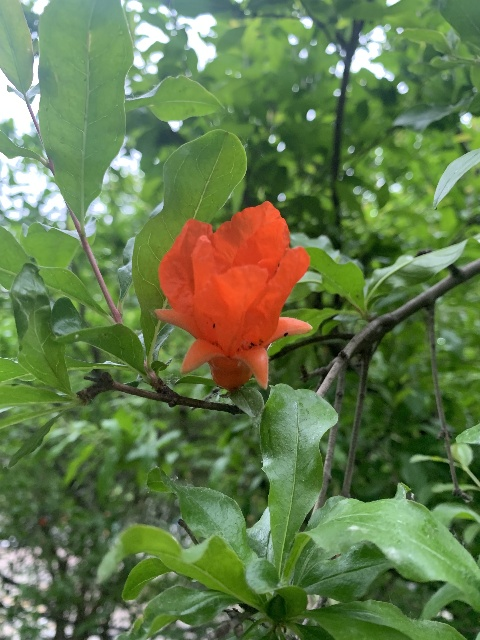flower: (154, 201, 312, 390)
